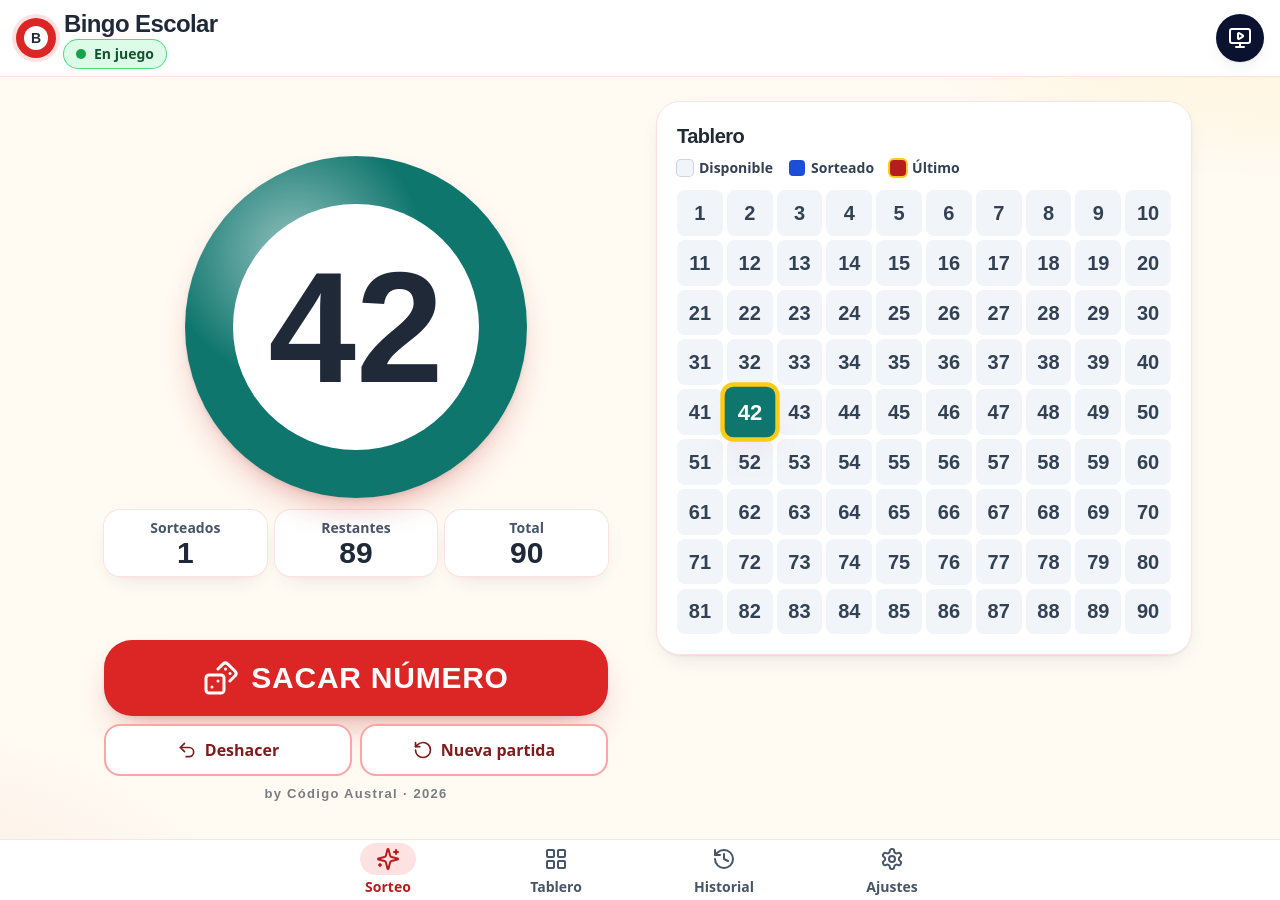
Scenario: App: flujo principal › modo proyector: se abre, muestra el número y sale con Escape
The image size is (1280, 900).
Click the button named "modo proyector".
click(1240, 38)  # box [1216,14,1264,62]
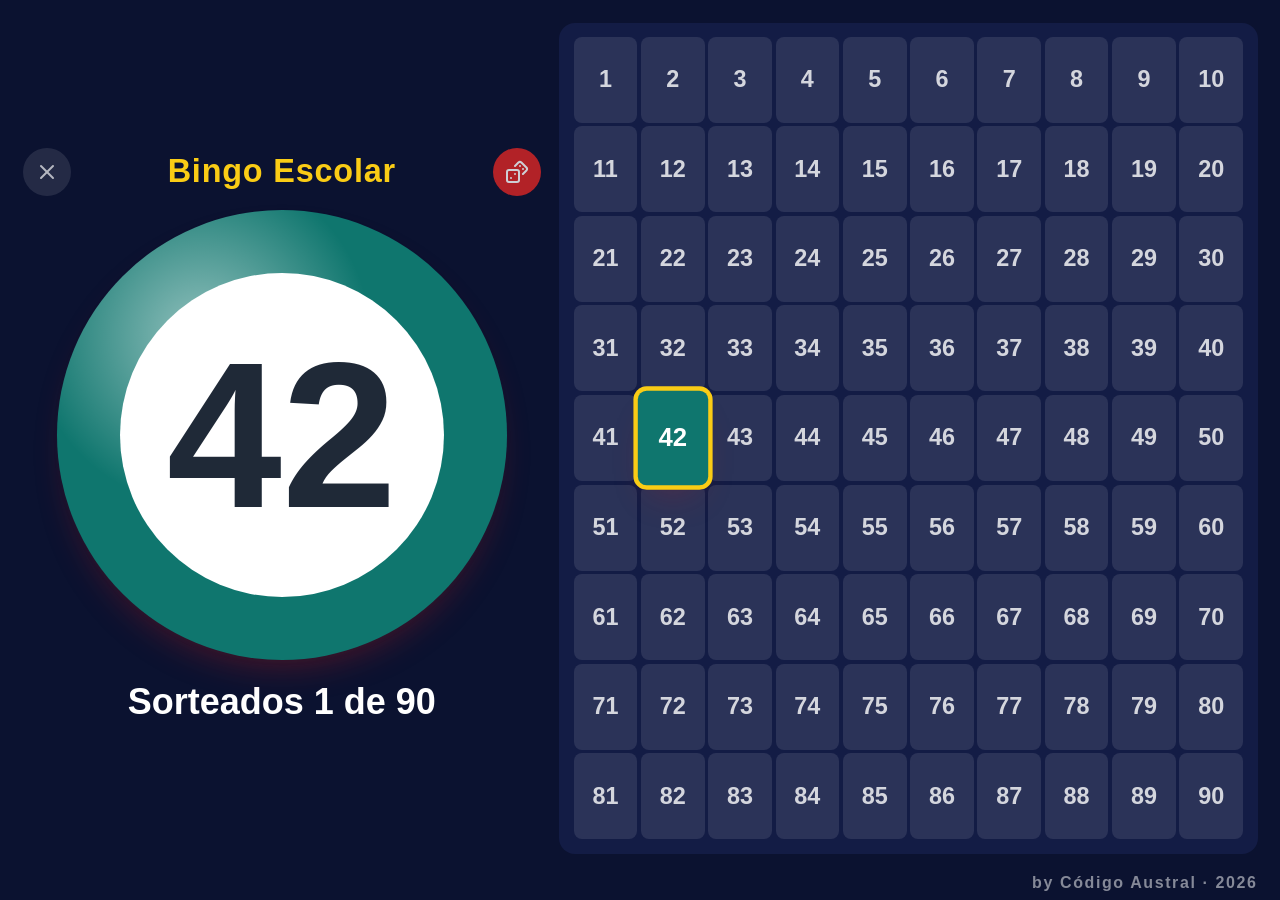
Expected: the text with test id "brand-credit" reads "by Código Austral · 2026", [1032,874,1258,891]
Now the text with test id "projector-count" reads "Sorteados 1 de 90", box [128,681,436,722]
Press Escape
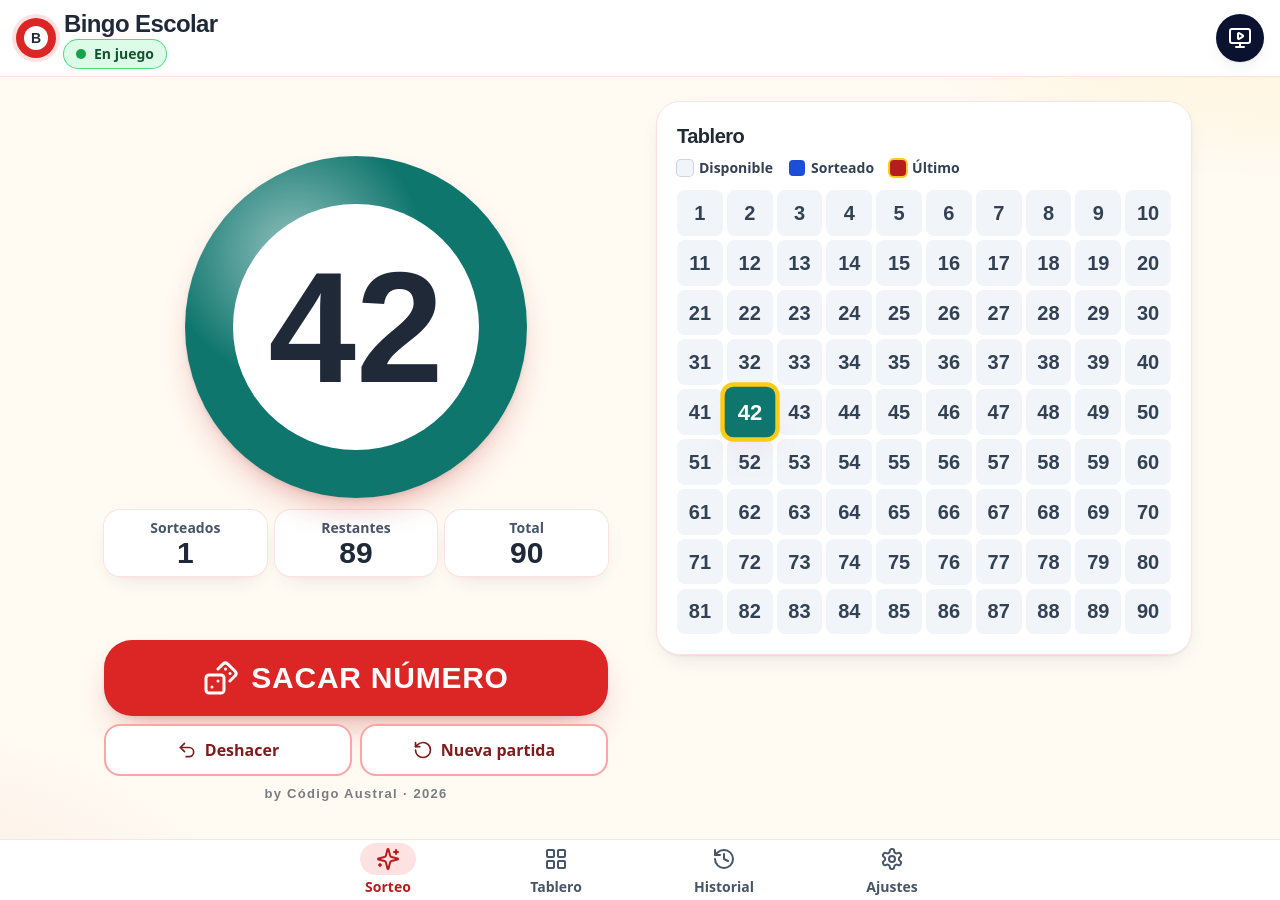
Now the element with test id "projector" is gone
